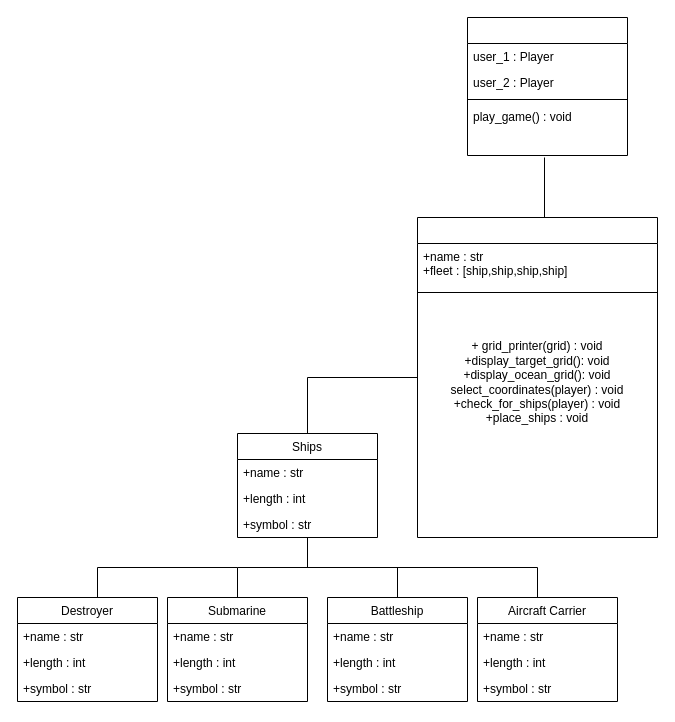
Image size: 675x722. Some labels were removed from this diagram. The shapes that lost their labels are listed below. From the top down, each one's box as (x1, y1, x2, y2) in pixels, then its label:
(466, 16, 628, 156): Board
(416, 216, 658, 538): Professor
